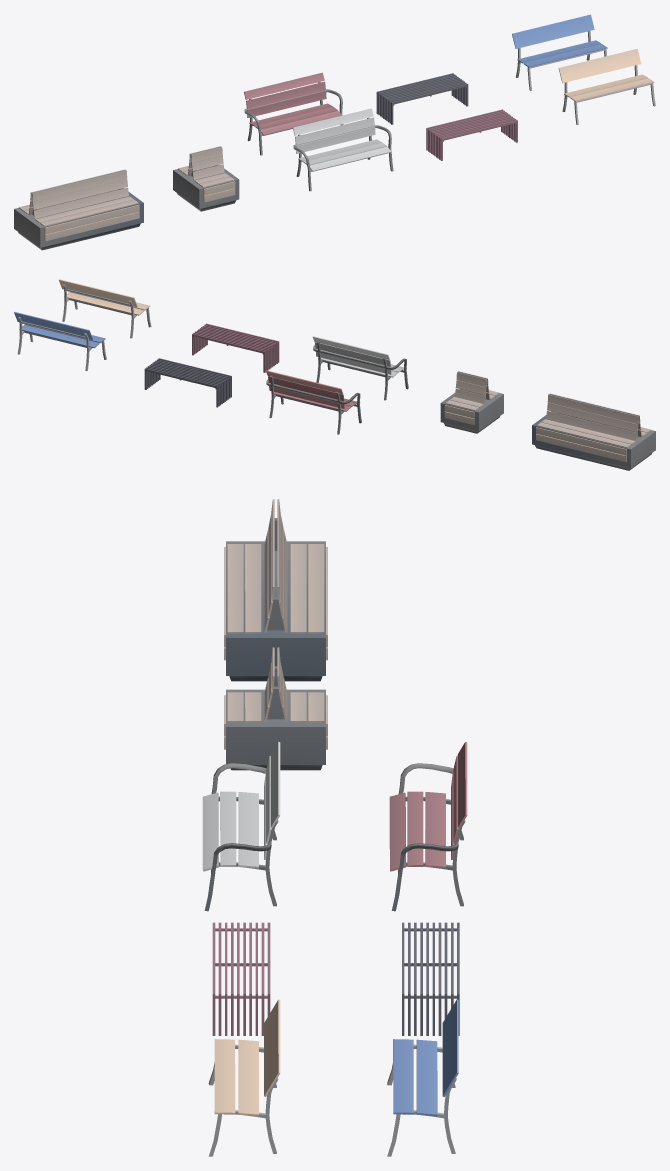
Rendered from penkki.fbx.
The picture shows the model from 3 angles, top to bottom: view 1: azimuth 30°, elevation 25°; view 2: azimuth 150°, elevation 25°; view 3: azimuth 270°, elevation 25°; orthographic projection. The views are drawn at different scales.
Parts seen in each view (by area): view 1: penkki_a3, penkki_b, penkki_b1, penkki_a2, penkki_d, penkki_d1, penkki_c1, penkki_c; view 2: penkki_a3, penkki_a2, penkki_b1, penkki_b, penkki_c, penkki_d1, penkki_c1, penkki_d; view 3: penkki_a3, penkki_a2, penkki_b, penkki_b1, penkki_d1, penkki_d, penkki_c, penkki_c1.
Part boxes in pixels (box(x1,y1,x2,y2)): penkki_a3: box(14, 169, 143, 250); penkki_b: box(293, 108, 393, 191); penkki_b1: box(244, 72, 343, 155); penkki_a2: box(173, 146, 239, 211); penkki_d: box(558, 48, 655, 124); penkki_d1: box(512, 14, 607, 90); penkki_c1: box(376, 73, 468, 124); penkki_c: box(426, 109, 517, 160); penkki_a3: box(532, 393, 655, 470); penkki_a2: box(440, 371, 503, 433); penkki_b1: box(266, 370, 361, 434); penkki_b: box(312, 336, 408, 400); penkki_c: box(192, 323, 279, 372); penkki_d1: box(14, 311, 106, 370); penkki_c1: box(144, 358, 231, 407); penkki_d: box(58, 279, 151, 338); penkki_a3: box(224, 499, 327, 681); penkki_a2: box(224, 647, 327, 770); penkki_b: box(202, 741, 280, 911); penkki_b1: box(389, 741, 467, 911); penkki_d1: box(387, 999, 458, 1156); penkki_d: box(208, 999, 280, 1156); penkki_c: box(212, 922, 270, 1035); penkki_c1: box(402, 922, 459, 1035).
Size of the model in its own units: 52.79 by 4.37 by 10.36.
